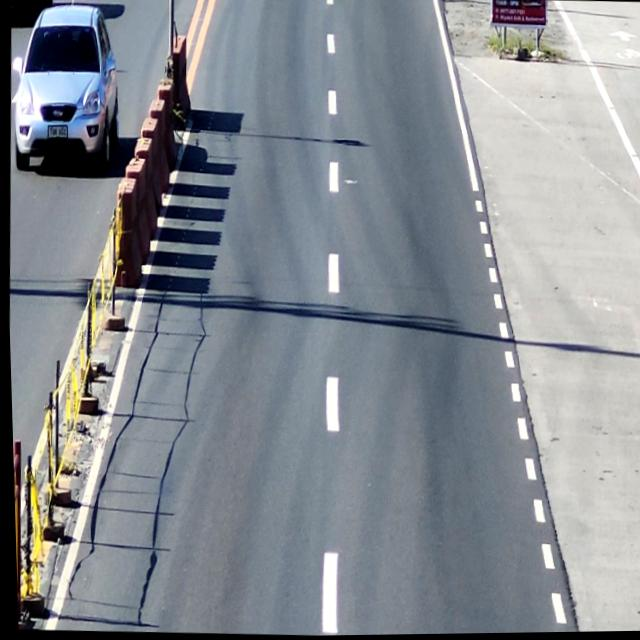Car: (10, 0, 127, 175)
License-Plate: (43, 121, 68, 144)
